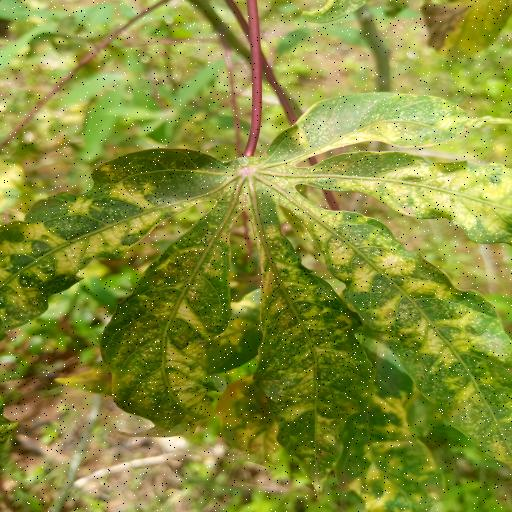Cassava_Mosaic: (0, 90, 512, 503)
